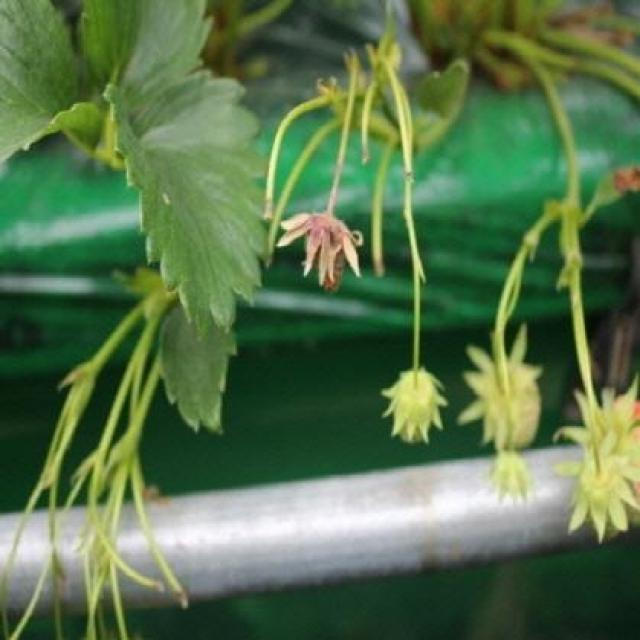Gray Mold: (274, 205, 365, 294)
